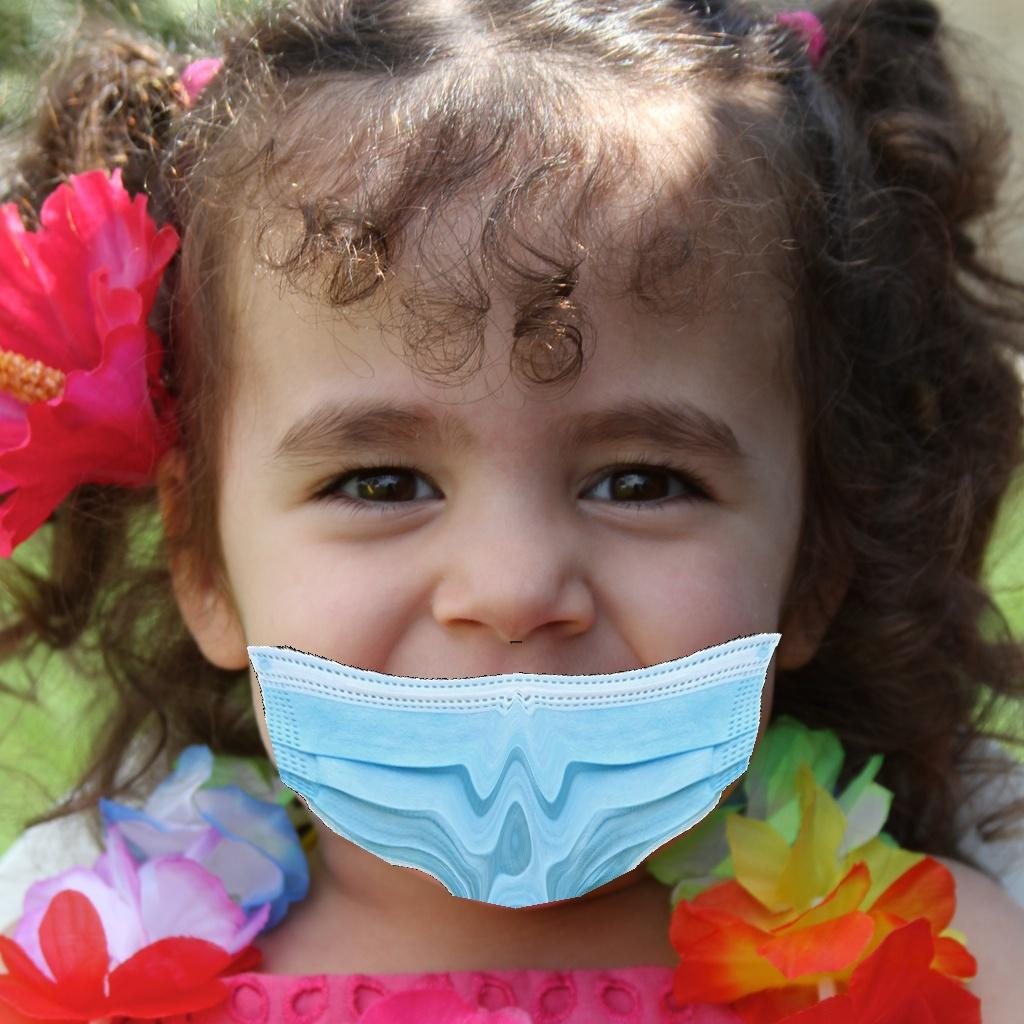Máscara Incorreta: (201, 330, 792, 891)
